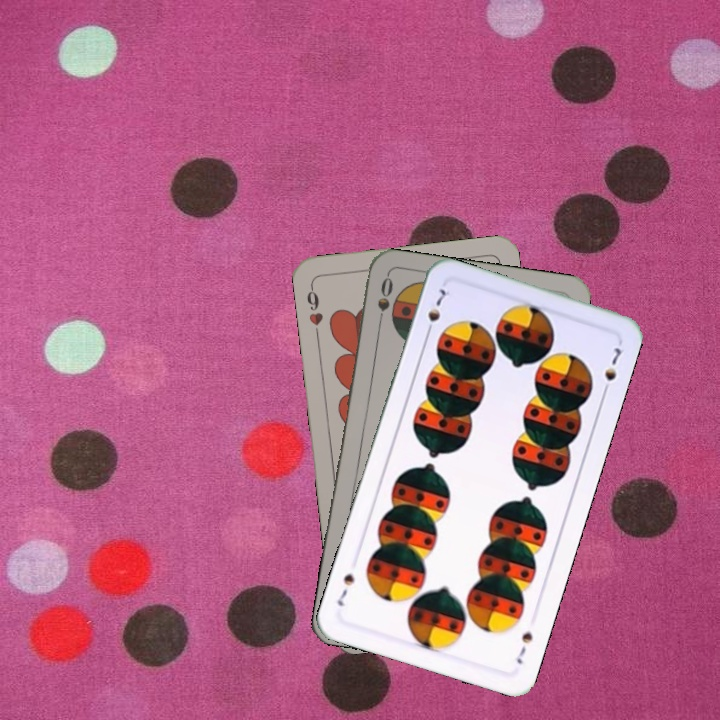H9: (302, 281, 326, 340)
S7: (421, 284, 449, 339), (511, 628, 536, 667)
SO: (373, 273, 396, 332)
